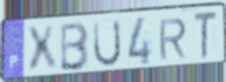4: (126, 16, 155, 67)
B: (59, 20, 91, 73)
R: (158, 17, 188, 62)
T: (193, 10, 219, 63)
U: (93, 18, 123, 69)
X: (25, 24, 59, 76)
